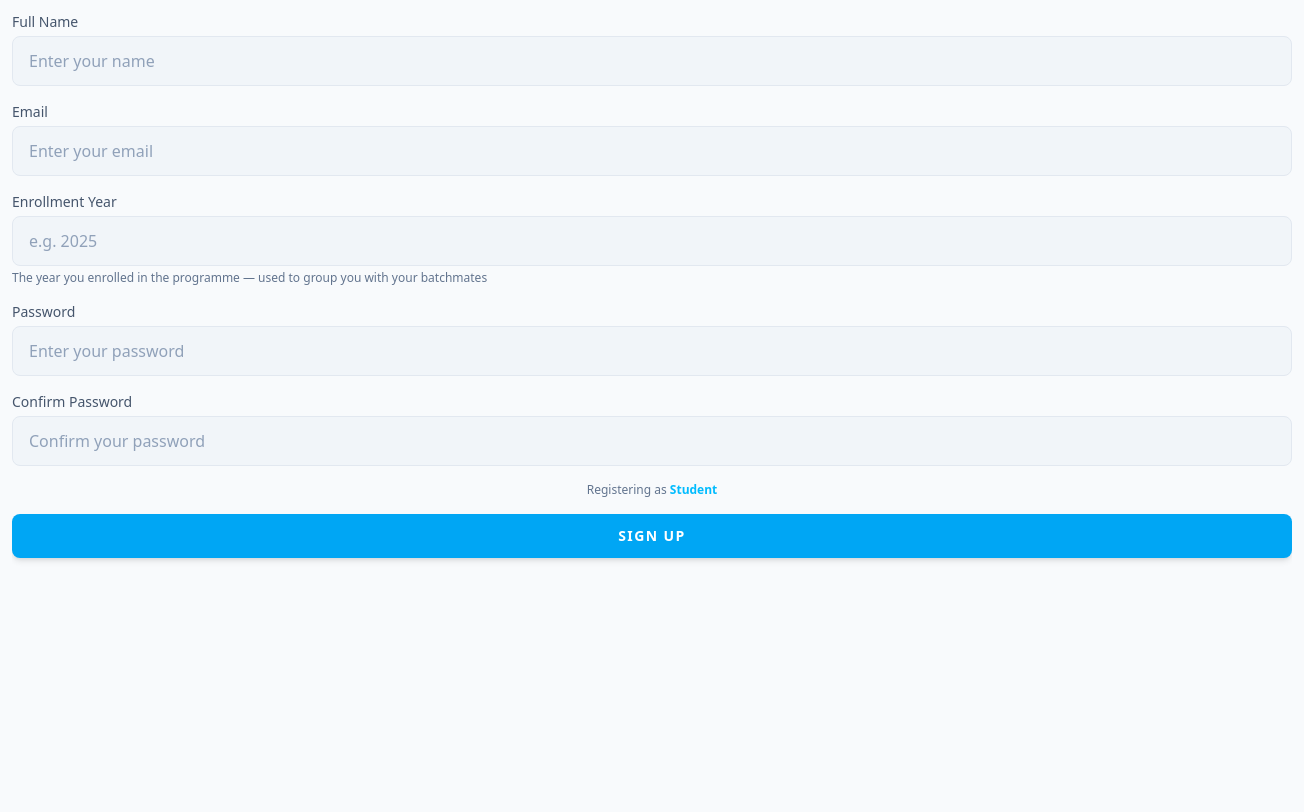
it: Register Component › shows "Email is required" after name is filled
The image size is (1304, 812).
Type "Test" into the field with placeholder "Enter your name".
click(652, 61); type("Test")  # box left=12, top=36, right=1292, bottom=86
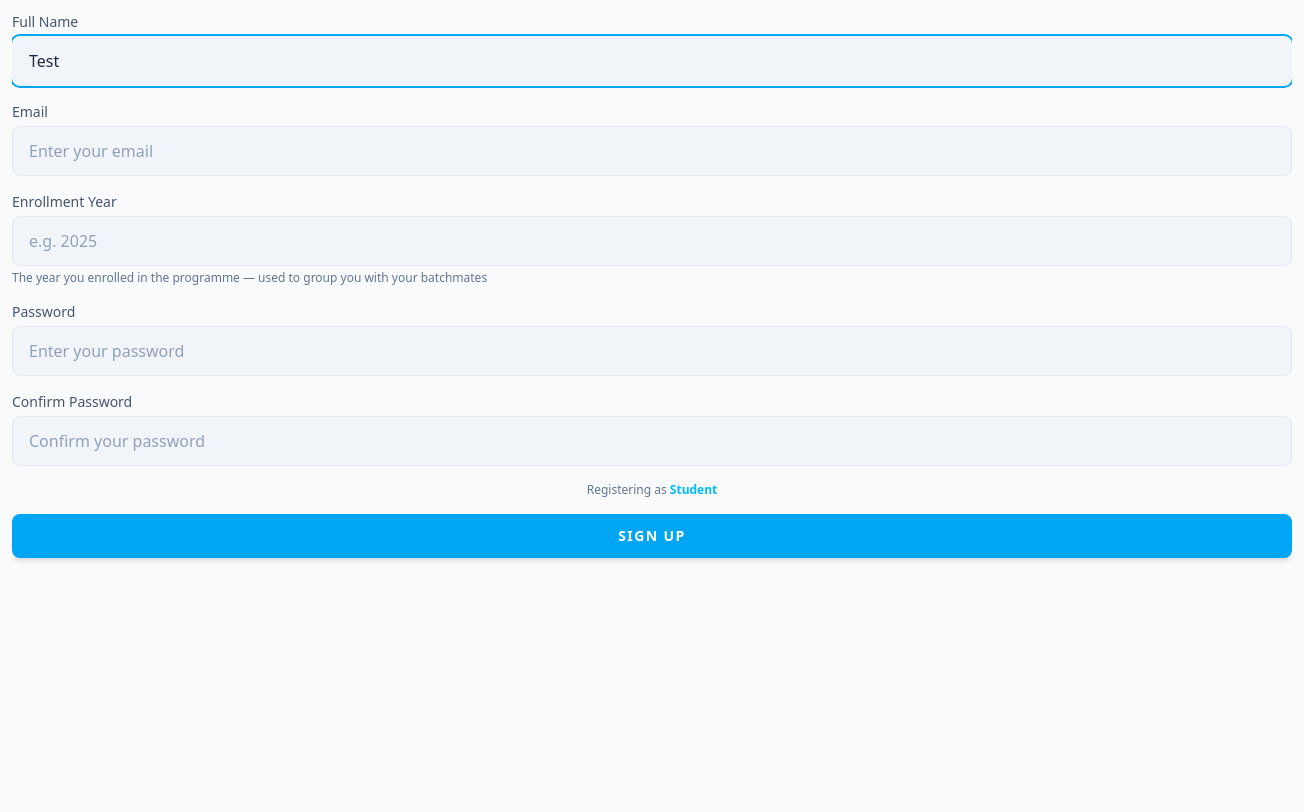
Click the button "Sign Up".
click(652, 536)  # box left=12, top=514, right=1292, bottom=558
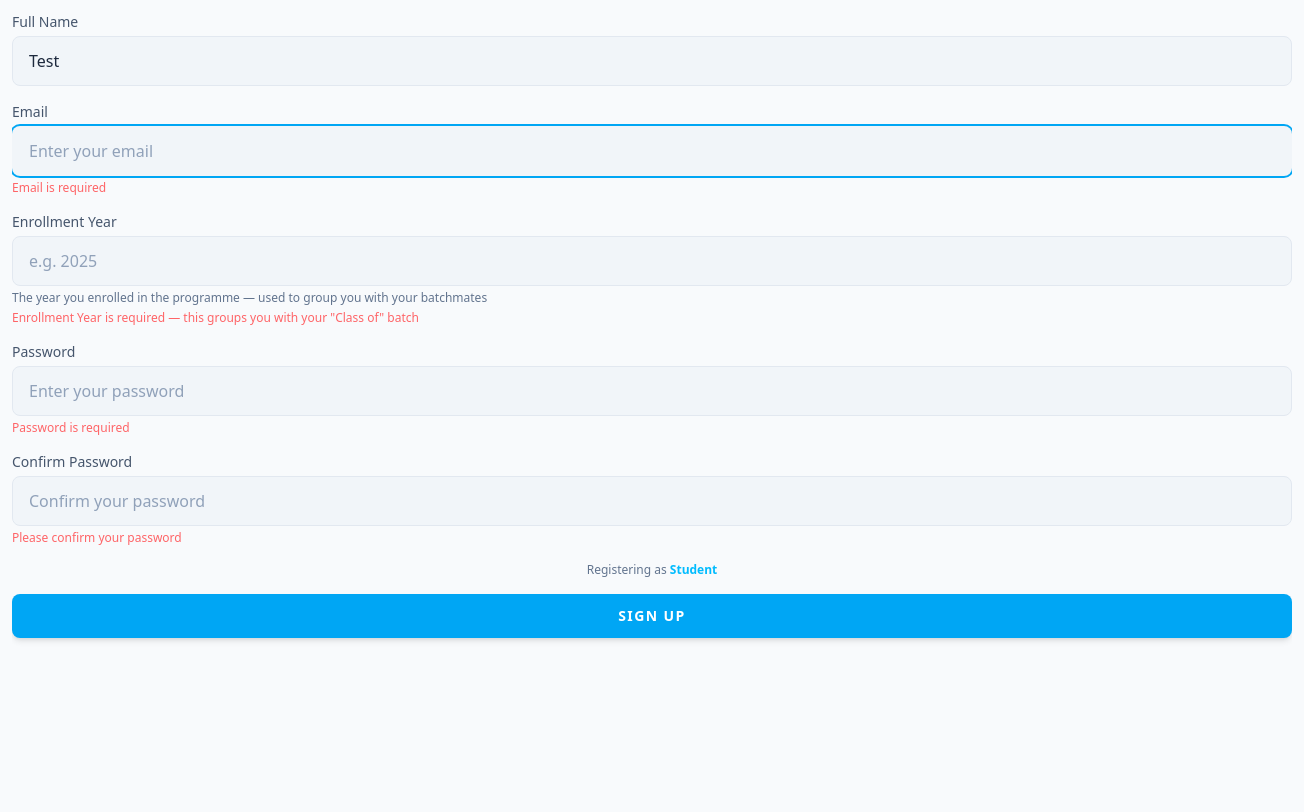
Expected: the text "Email is required" is shown, left=12, top=179, right=106, bottom=196
